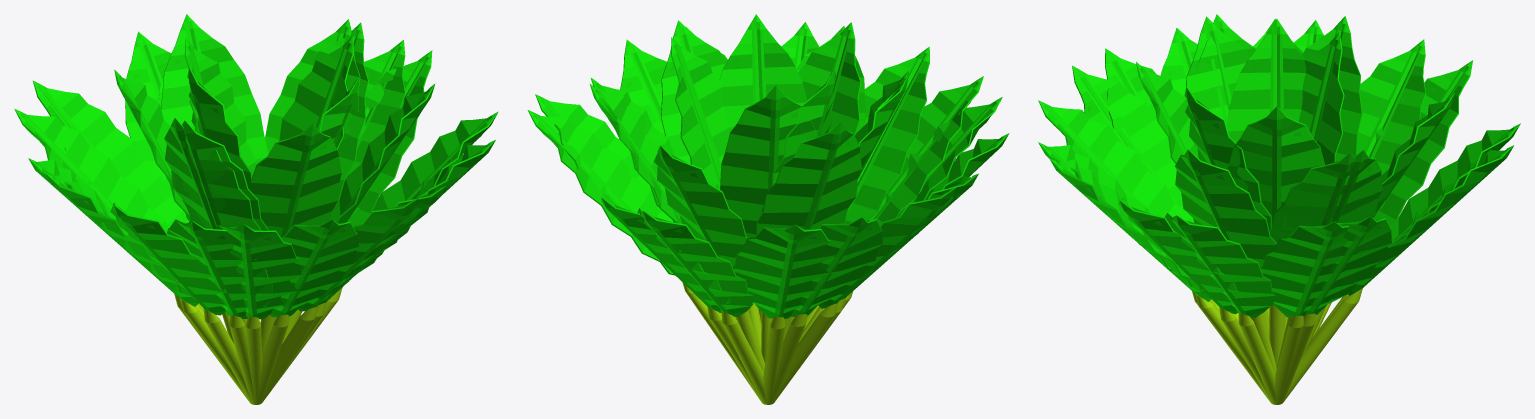
File: sorrel_FINALIHOPE.fbx
3 views of the same model, side by side, from view 1: azimuth 30°, elevation 25°; view 2: azimuth 150°, elevation 25°; view 3: azimuth 270°, elevation 25° (orthographic).
Visible parts, largest first — view 1: leaf_sorrel.042, leaf_sorrel.039; view 2: leaf_sorrel.042, leaf_sorrel.039; view 3: leaf_sorrel.042, leaf_sorrel.039.
Part boxes in pixels (<box>): leaf_sorrel.042: <box>14,14,498,319</box>; leaf_sorrel.039: <box>174,287,342,404</box>; leaf_sorrel.042: <box>527,14,1009,318</box>; leaf_sorrel.039: <box>682,283,853,404</box>; leaf_sorrel.042: <box>1038,14,1520,317</box>; leaf_sorrel.039: <box>1192,288,1362,404</box>.
Size of the model in its own units: 31.58 by 25.45 by 31.7.
